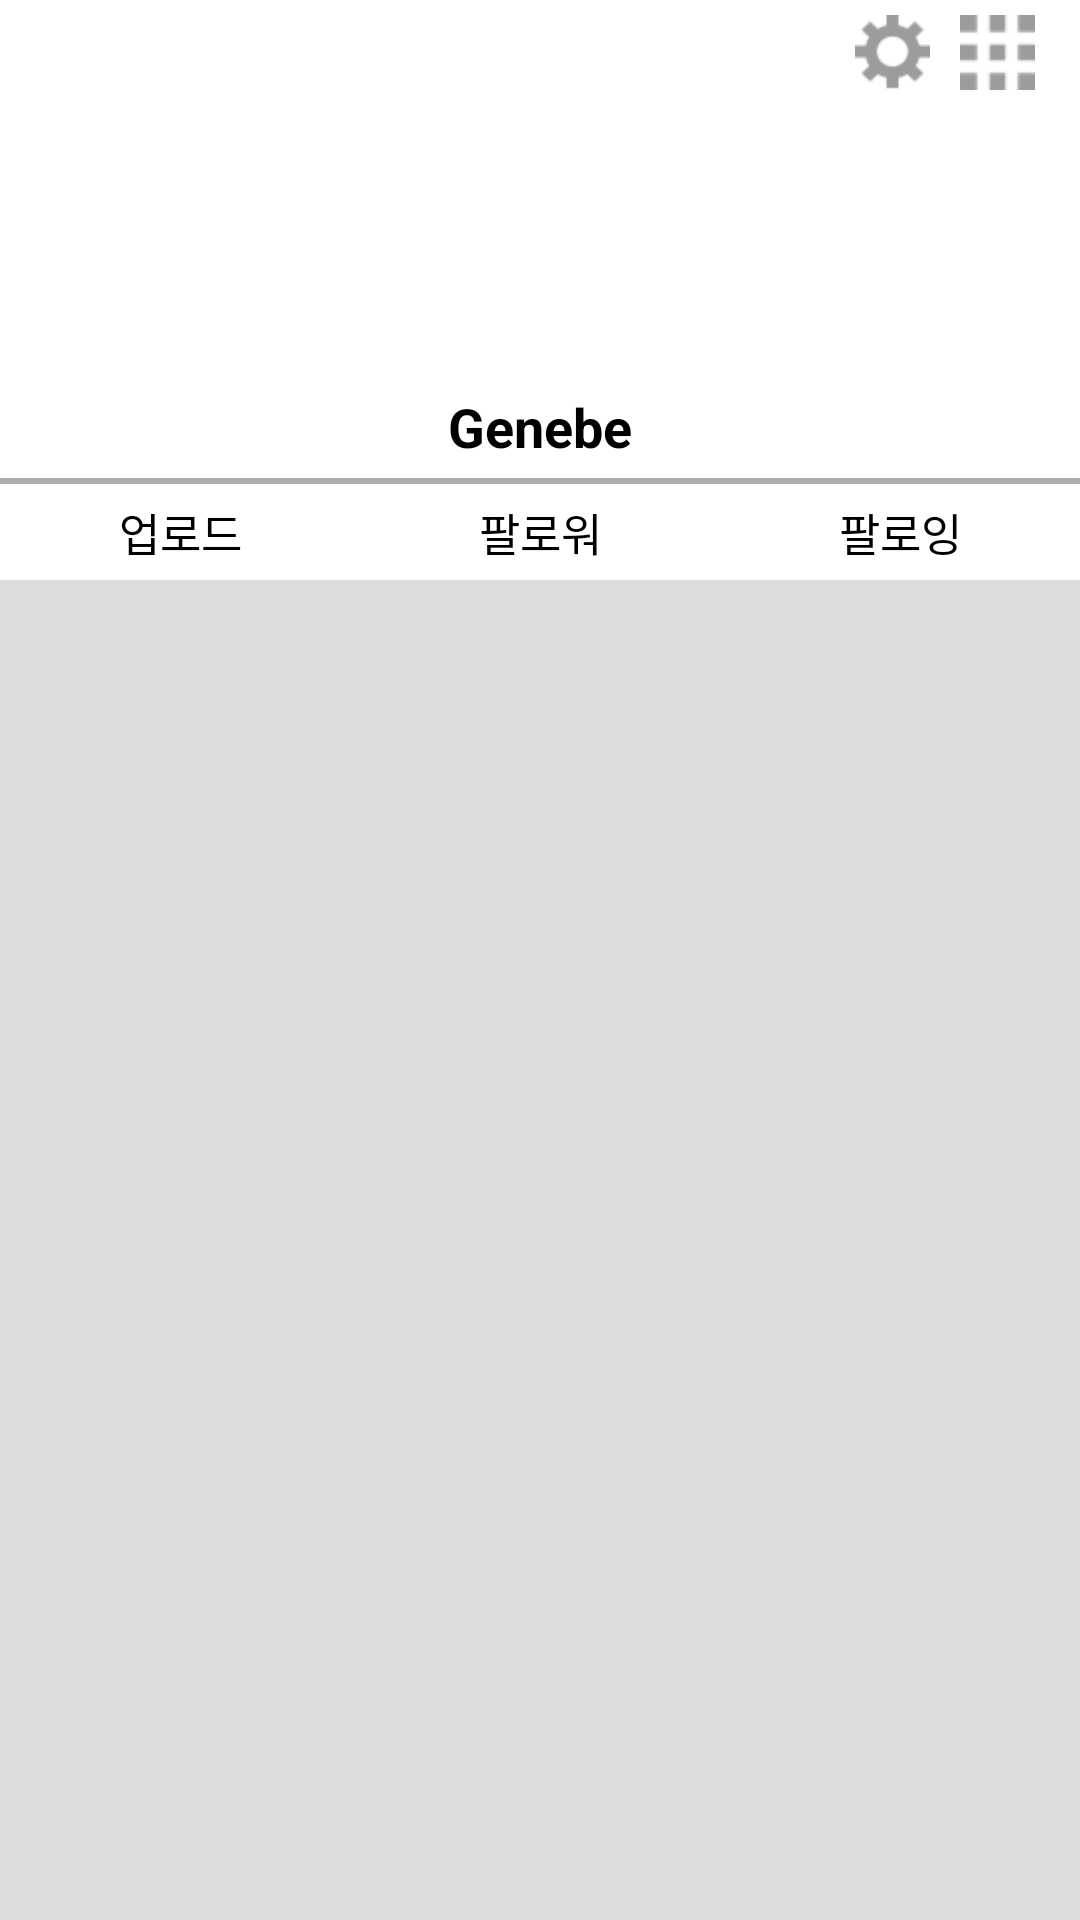

Icons on this 1080w x 1920h Android screen, each with the point to tap as [x,y]:
gridfilled: [997,52]
settings: [892,52]
